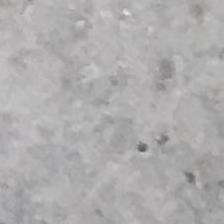Non_Crack: (27, 40, 224, 193)
